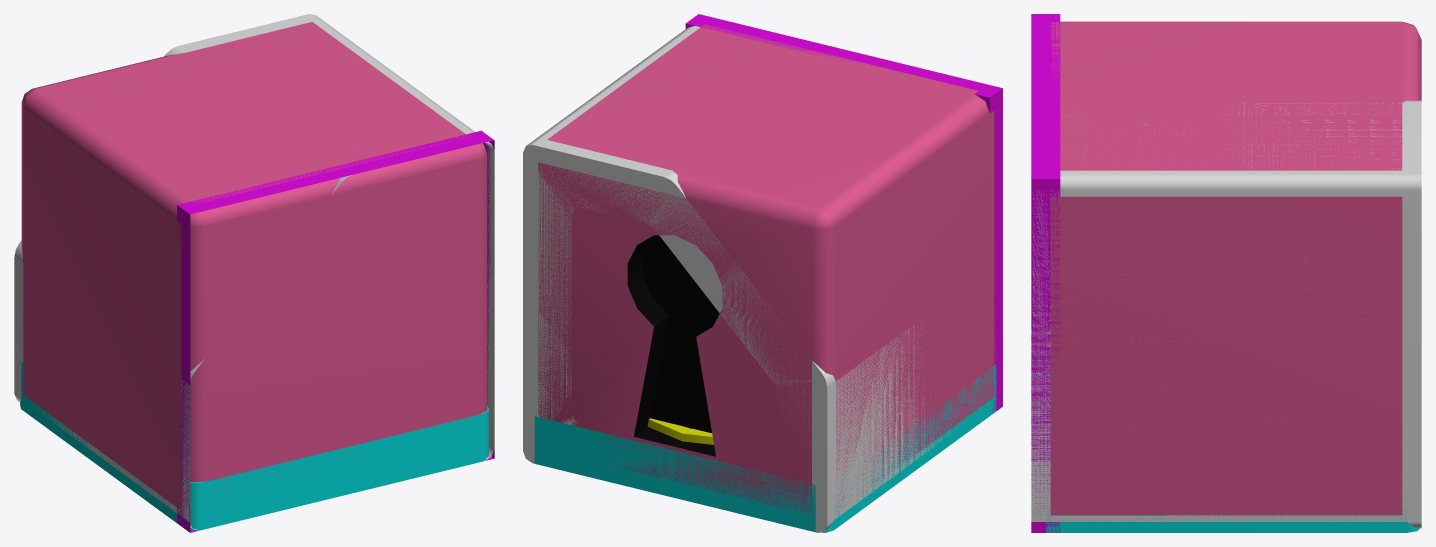
Rendered from Items.fbx.
3 views of the same model, side by side, from view 1: azimuth 30°, elevation 25°; view 2: azimuth 150°, elevation 25°; view 3: azimuth 270°, elevation 25° (orthographic). The views are drawn at different scales.
Visible parts, largest first — view 1: lockbox, base, barrier_corner, spillzone; view 2: lockbox, barrier_corner, base, spillzone; view 3: lockbox, barrier_corner, spillzone, base.
Boxes of the visible parts, <box> form: lockbox: <box>21,22,487,509</box>; base: <box>20,362,488,530</box>; barrier_corner: <box>14,14,494,530</box>; spillzone: <box>177,130,494,532</box>; lockbox: <box>538,24,994,514</box>; barrier_corner: <box>523,24,996,532</box>; base: <box>534,364,996,532</box>; spillzone: <box>685,14,1002,413</box>; lockbox: <box>1050,21,1421,515</box>; barrier_corner: <box>1031,100,1421,528</box>; spillzone: <box>1031,14,1060,532</box>; base: <box>1046,499,1419,532</box>.
Size of the model in its own units: 1 by 1 by 1.
